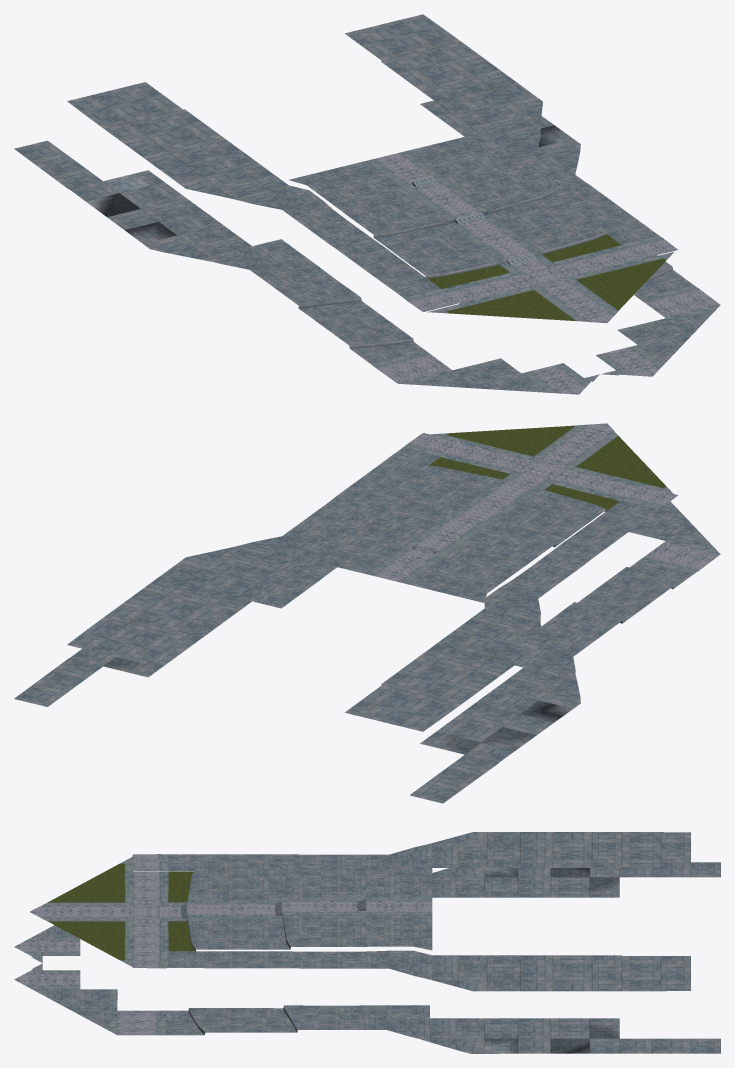
Rendered from Maincity_Ground.FBX.
The picture shows the model from 3 angles, top to bottom: view 1: azimuth 30°, elevation 25°; view 2: azimuth 150°, elevation 25°; view 3: azimuth 270°, elevation 25°; orthographic projection. The views are drawn at different scales.
Visible parts, largest first — view 1: Maincity_Ground_01; view 2: Maincity_Ground_01; view 3: Maincity_Ground_01.
Boxes of the visible parts, bbox=[...] form: Maincity_Ground_01: bbox=[14, 14, 720, 394]; Maincity_Ground_01: bbox=[14, 423, 720, 803]; Maincity_Ground_01: bbox=[14, 832, 720, 1053].
Bounding box in the file's own units: 11878 × 1742 × 18503.
